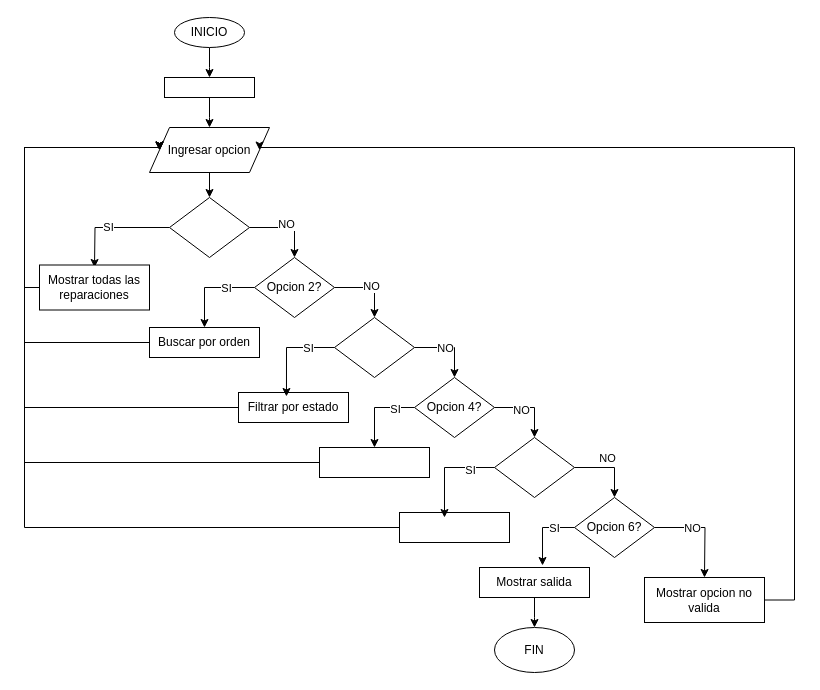
This 820x690 diagram has some shape labels left out. Here are the shapes that lost their labels. From the top down, the centre of each, then its label:
At (209,87): "Mostrar Menu".
At (209,227): "Opcion 1?".
At (374,347): "Opcion 3?".
At (374,462): "Filtrar por tecnico".
At (534,467): "Opcion 5?".
At (454,527): "Filtrar por costo".
